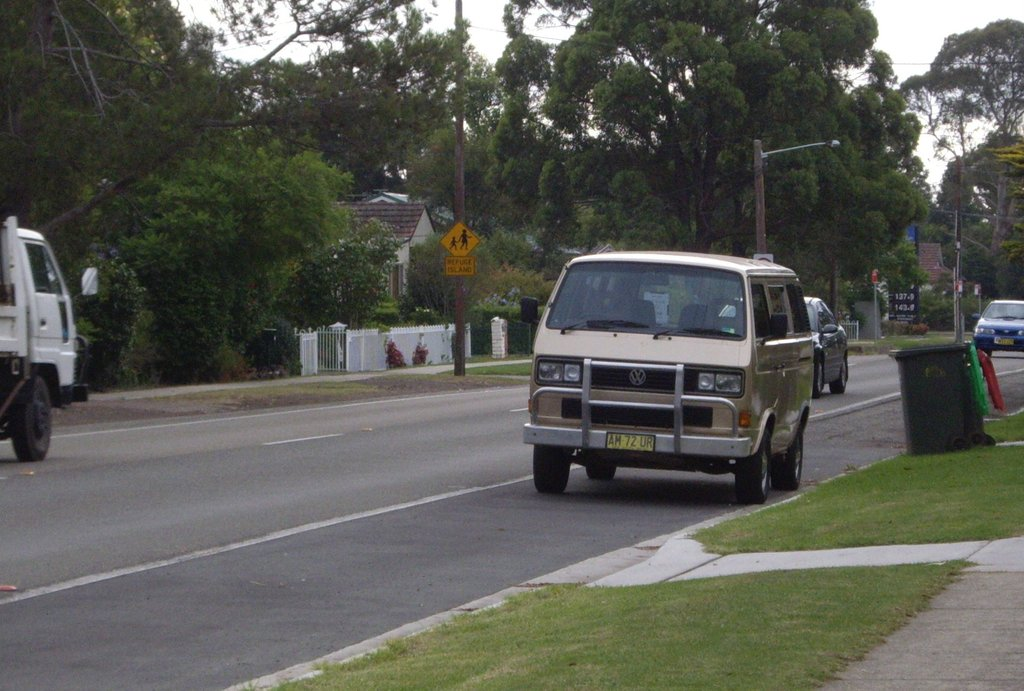car: (487, 216, 813, 510), (799, 280, 868, 403), (966, 289, 1024, 372)
truck: (1, 206, 122, 469)
